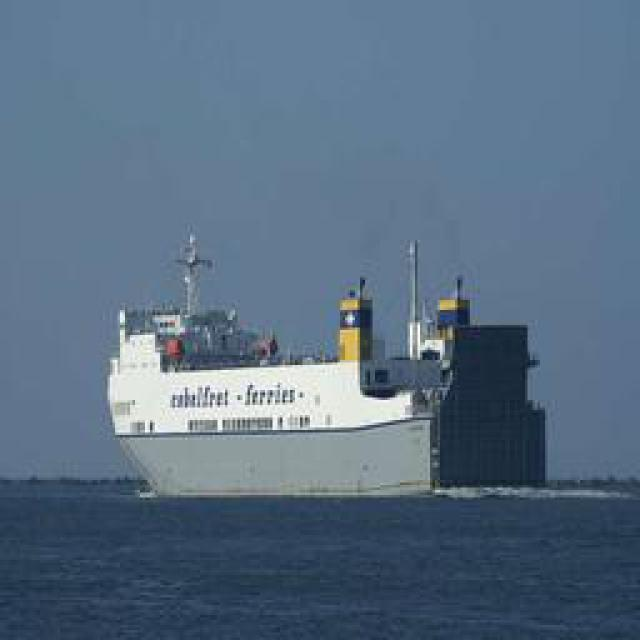Ship: (108, 212, 453, 505)
